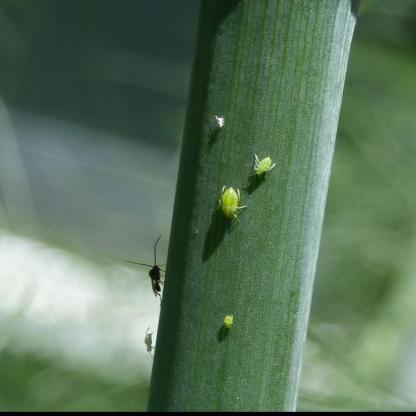aphid: (140, 224, 176, 302), (212, 176, 248, 224), (249, 145, 281, 186), (140, 324, 160, 356), (220, 310, 238, 336)
